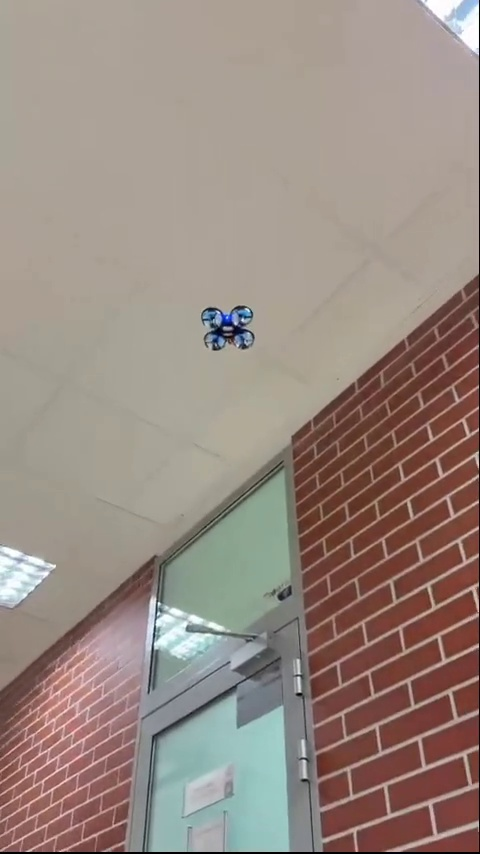drone: (201, 306, 260, 352)
